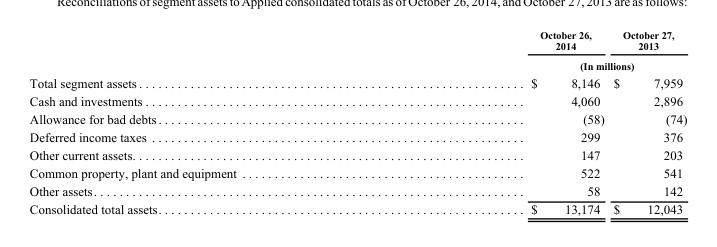table: (28, 28, 686, 216)
table column: (28, 28, 383, 216), (383, 28, 608, 216), (608, 28, 686, 216)
table column header: (28, 28, 686, 73)
table row: (28, 28, 686, 55), (28, 55, 686, 73), (28, 73, 686, 91), (28, 91, 686, 109), (28, 109, 686, 127), (28, 127, 686, 145), (28, 145, 686, 163), (28, 163, 686, 181), (28, 181, 686, 199), (28, 199, 686, 216)
table spanning cell: (383, 55, 686, 73)
